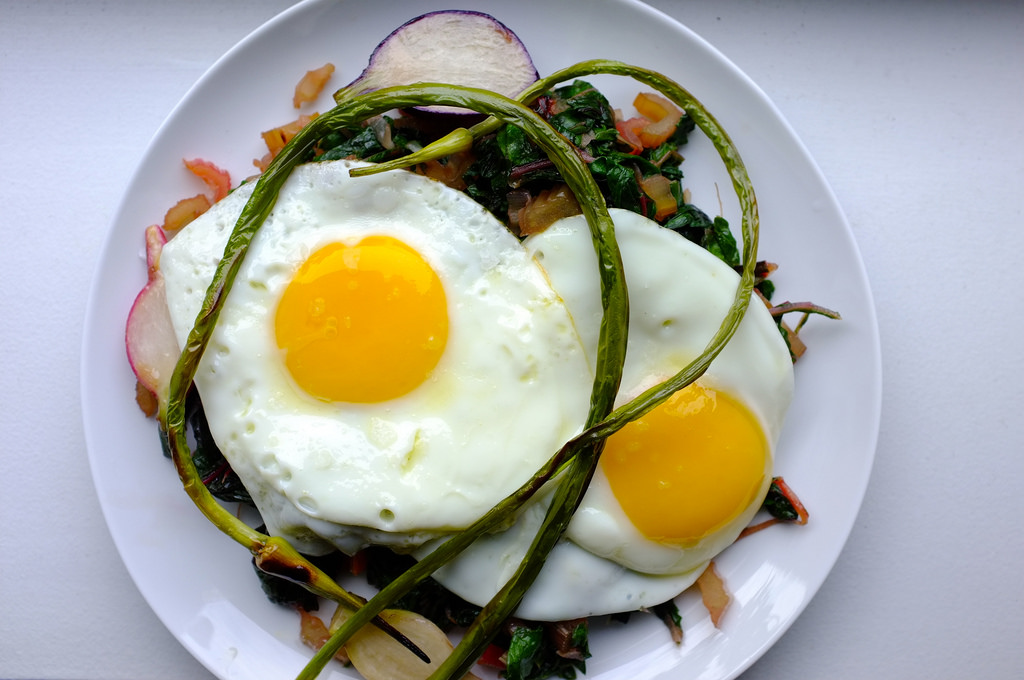fried egg: (445, 209, 789, 603), (208, 188, 559, 511)
